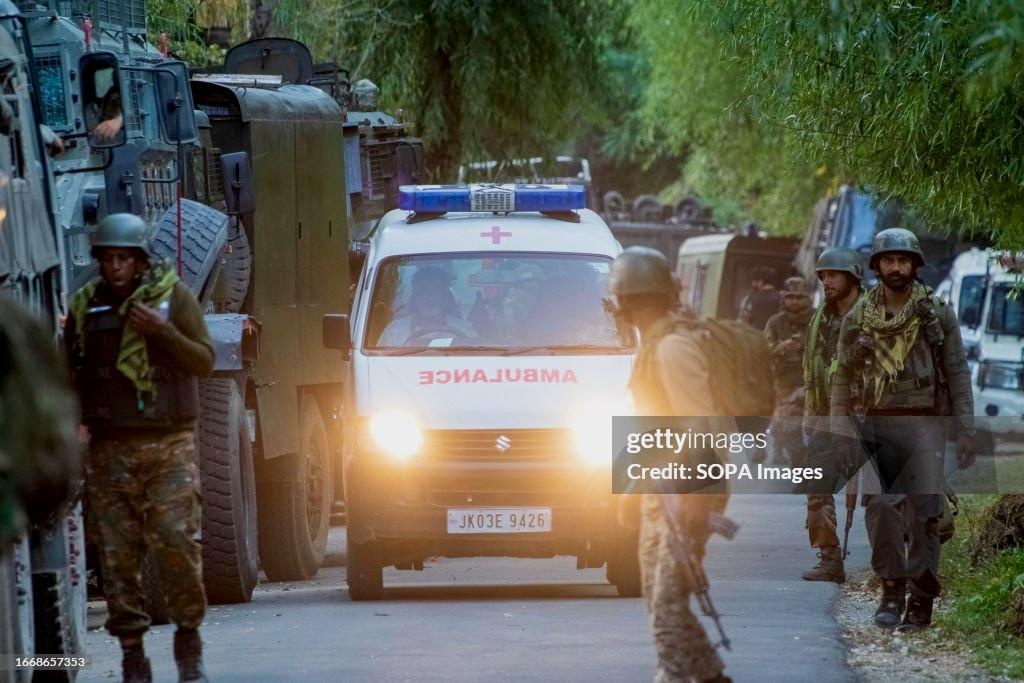ambulance: (338, 185, 604, 431)
